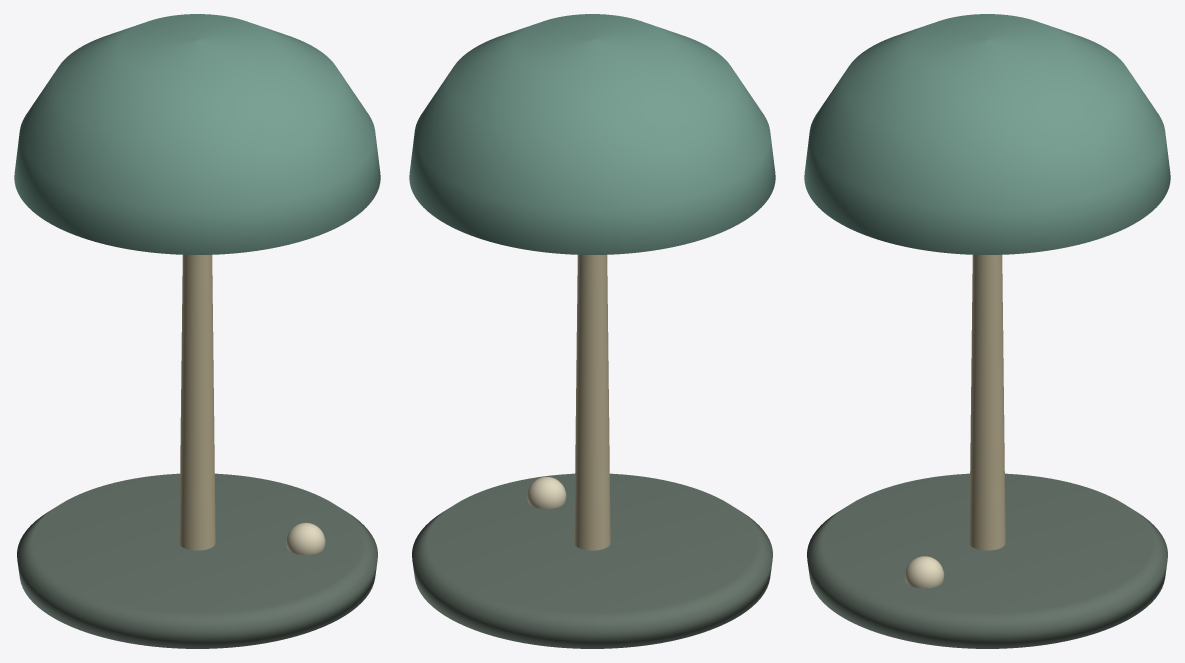
The model's file is studio-lamp.glb.
3 renders of one model, left to right at view 1: azimuth 30°, elevation 25°; view 2: azimuth 150°, elevation 25°; view 3: azimuth 270°, elevation 25°, orthographic.
Parts seen in each view (by area): view 1: Dome_shade, Machined_base, Stem, Power_switch; view 2: Dome_shade, Machined_base, Stem, Power_switch; view 3: Dome_shade, Machined_base, Stem, Power_switch.
Part boxes in pixels (x1,y1,x2,y2): Dome_shade: (14,14,380,254); Machined_base: (17,473,377,648); Stem: (179,254,215,550); Power_switch: (286,522,325,554); Dome_shade: (409,14,775,254); Machined_base: (412,473,772,648); Stem: (574,254,610,550); Power_switch: (527,476,566,508); Dome_shade: (804,14,1170,254); Machined_base: (807,473,1167,648); Stem: (969,254,1005,550); Power_switch: (905,556,944,588).
Size of the model in its own units: 1.4 by 2.28 by 1.4.
